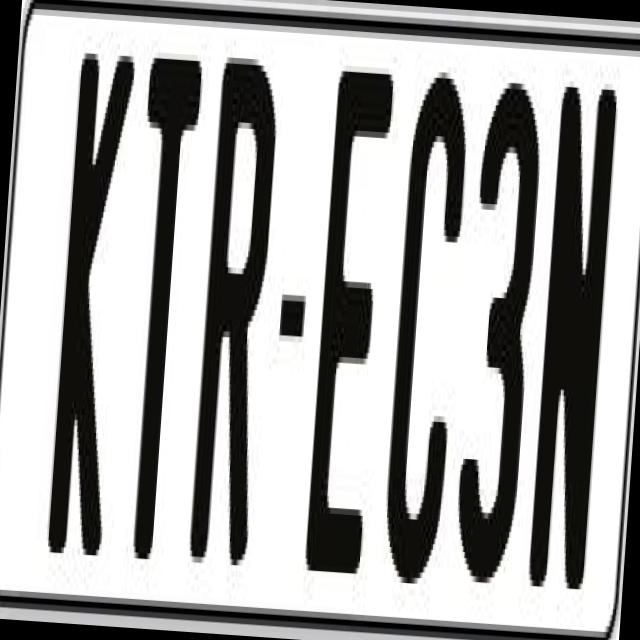3: (447, 80, 550, 620)
C: (377, 64, 472, 596)
E: (299, 53, 392, 574)
K: (45, 46, 143, 562)
N: (522, 80, 615, 601)
R: (186, 39, 286, 583)
T: (115, 46, 202, 560)
